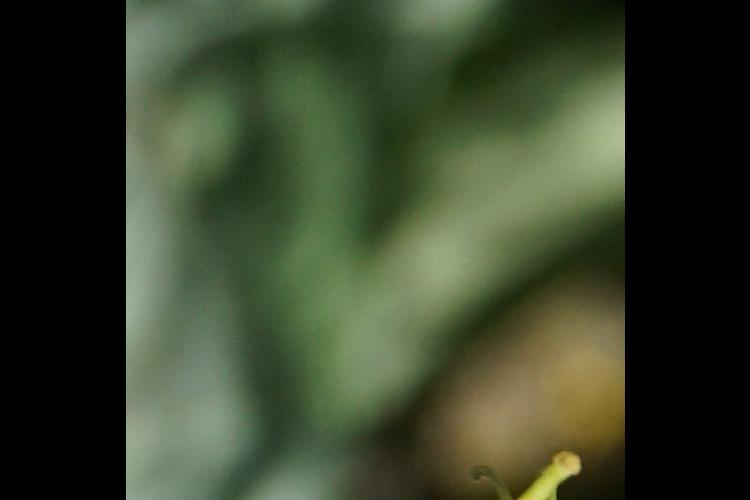pod: (394, 441, 585, 500), (528, 448, 584, 500)
